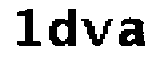1: (13, 7, 42, 50)
a: (118, 15, 150, 49)
d: (46, 5, 78, 47)
v: (79, 16, 113, 48)
